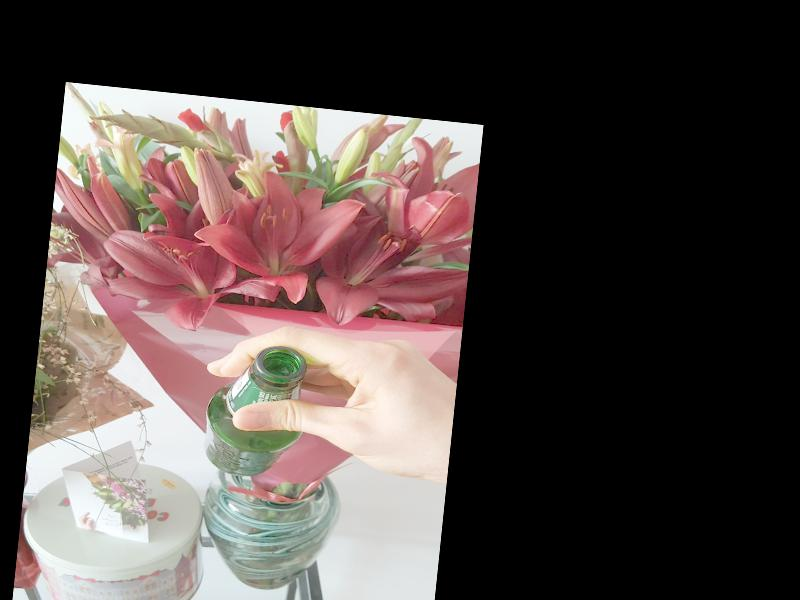Beer: (200, 339, 311, 481)
